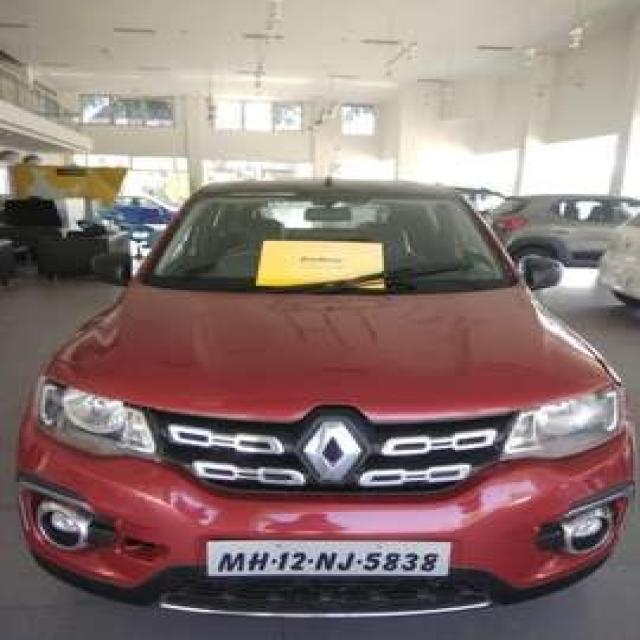plate: (205, 537, 452, 577)
